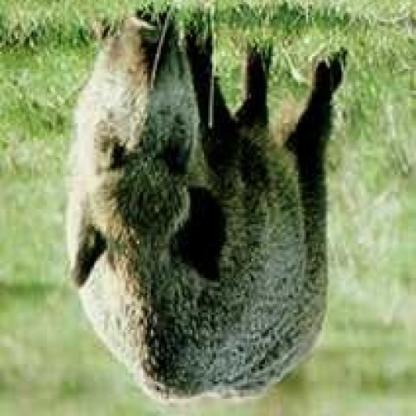boar: (64, 1, 377, 410)
